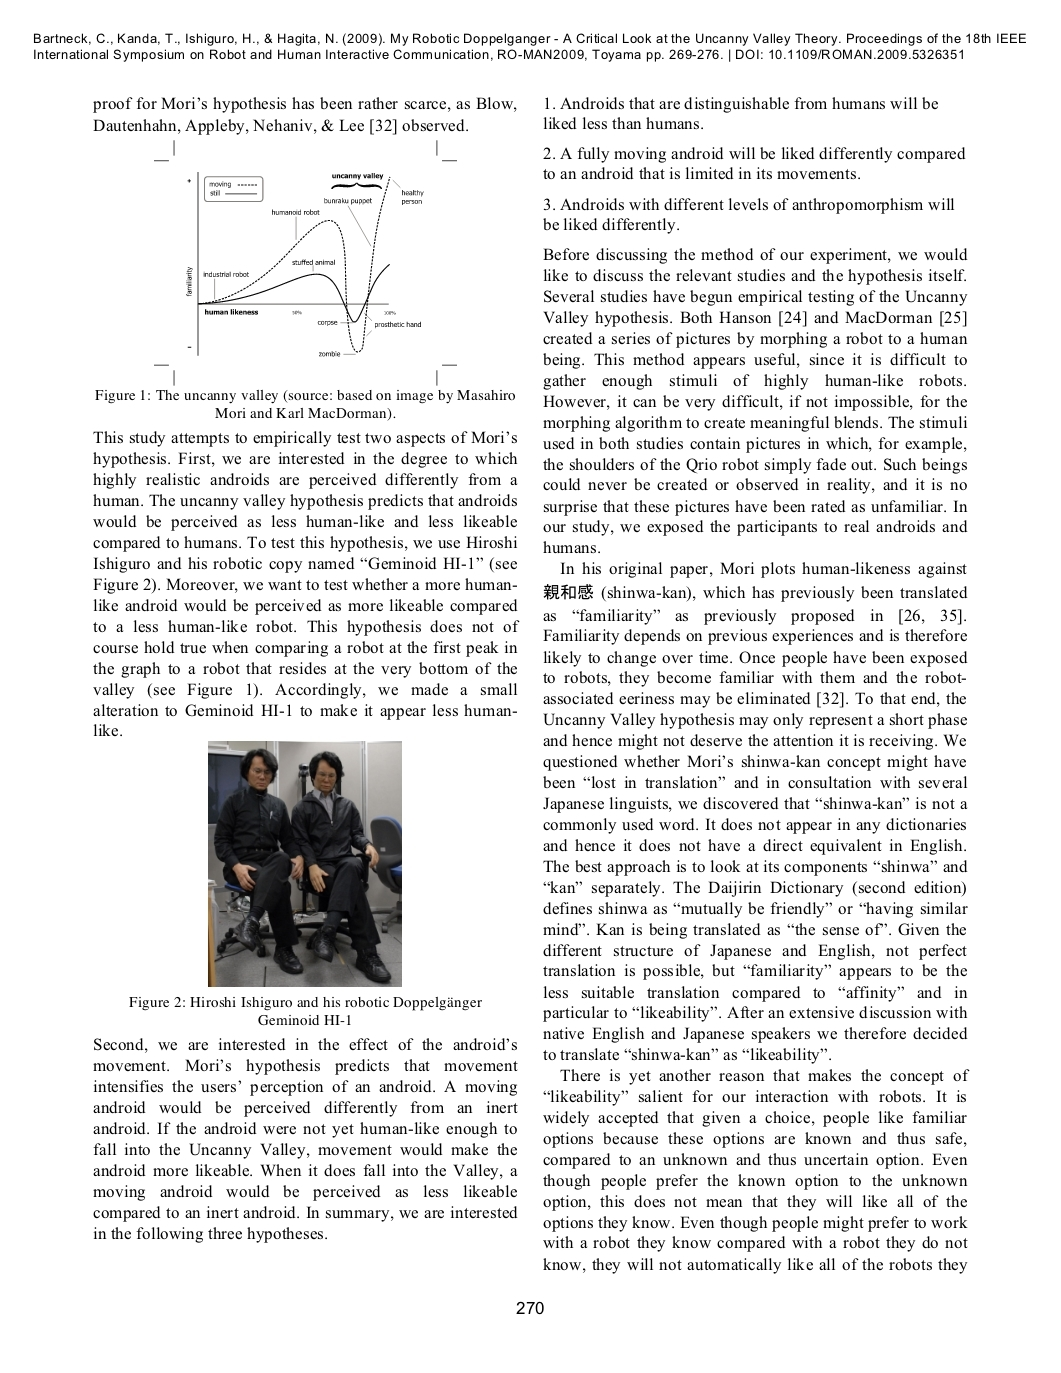figure: (208, 740, 401, 987), (186, 171, 424, 357)
